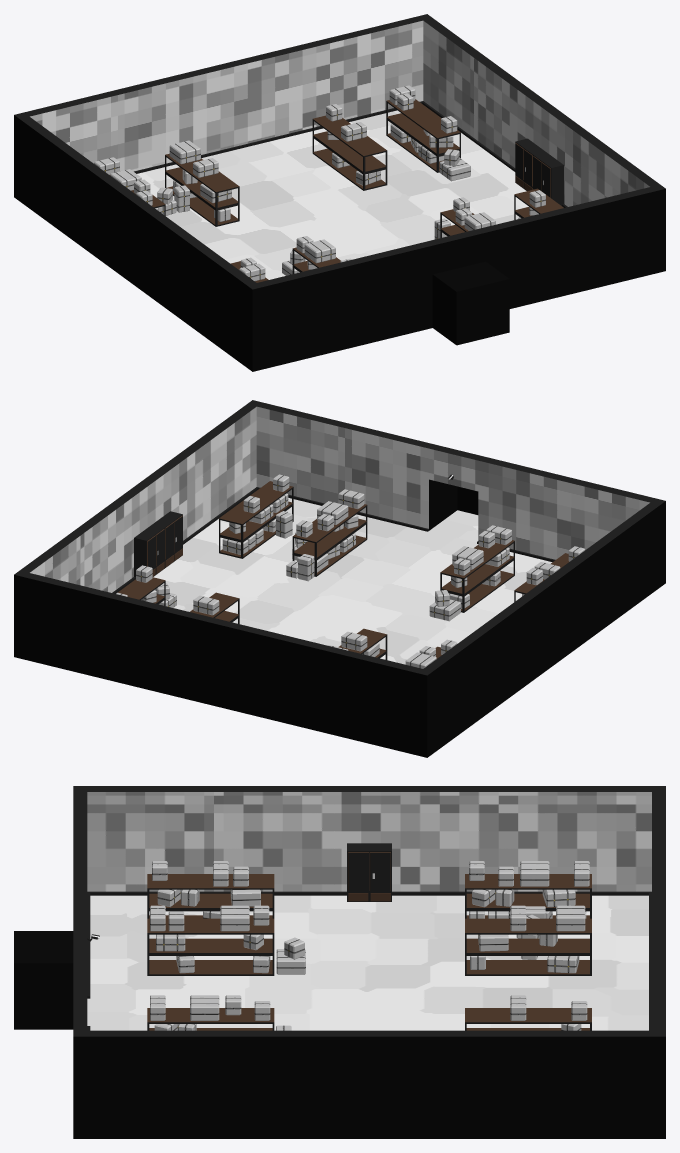
File: Cargo_Room_1x1x1.fbx
The picture shows the model from 3 angles, top to bottom: view 1: azimuth 30°, elevation 25°; view 2: azimuth 150°, elevation 25°; view 3: azimuth 270°, elevation 25°; orthographic projection. The views are drawn at different scales.
Parts seen in each view (by area): view 1: Cargo_Room_1x1x1; view 2: Cargo_Room_1x1x1; view 3: Cargo_Room_1x1x1.
Boxes of the visible parts, bbox=[...] form: Cargo_Room_1x1x1: bbox=[14, 14, 665, 371]; Cargo_Room_1x1x1: bbox=[14, 400, 665, 757]; Cargo_Room_1x1x1: bbox=[14, 786, 665, 1138].
Bounding box in the file's own units: 42 × 46.2 × 8.
